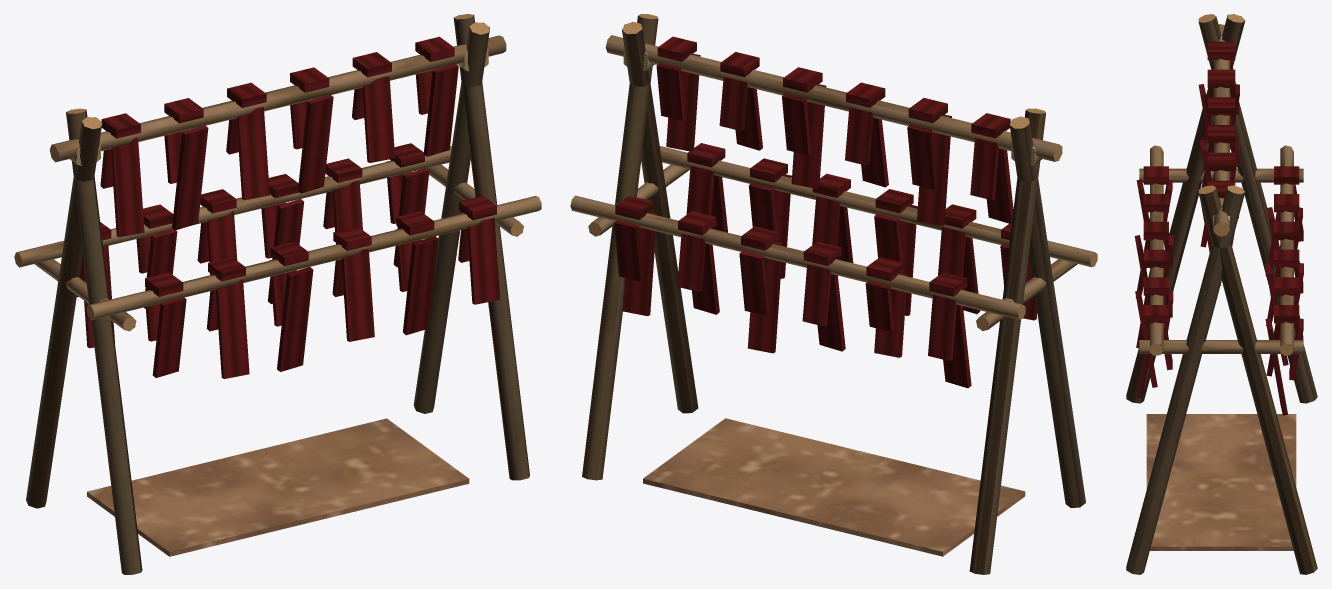
Rendered from drying_rack_drying.glb.
3 views of the same model, side by side, from view 1: azimuth 30°, elevation 25°; view 2: azimuth 150°, elevation 25°; view 3: azimuth 270°, elevation 25° (orthographic). The views are drawn at different scales.
Parts seen in each view (by area): view 1: drying_rack_drying; view 2: drying_rack_drying; view 3: drying_rack_drying.
Part boxes in pixels (bbox=[...]): drying_rack_drying: bbox=[14, 14, 541, 574]; drying_rack_drying: bbox=[570, 14, 1097, 574]; drying_rack_drying: bbox=[1126, 14, 1317, 574].
Size of the model in its own units: 1.94 by 1.76 by 0.7939.
Materials: 1 (1 with a texture image).
